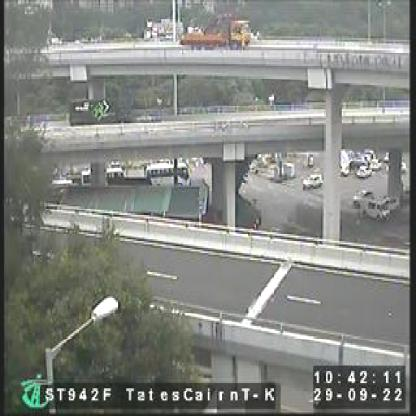Truck: (65, 95, 134, 123), (178, 18, 250, 44)
